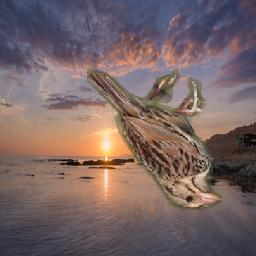Sparrow: (88, 70, 223, 211)
